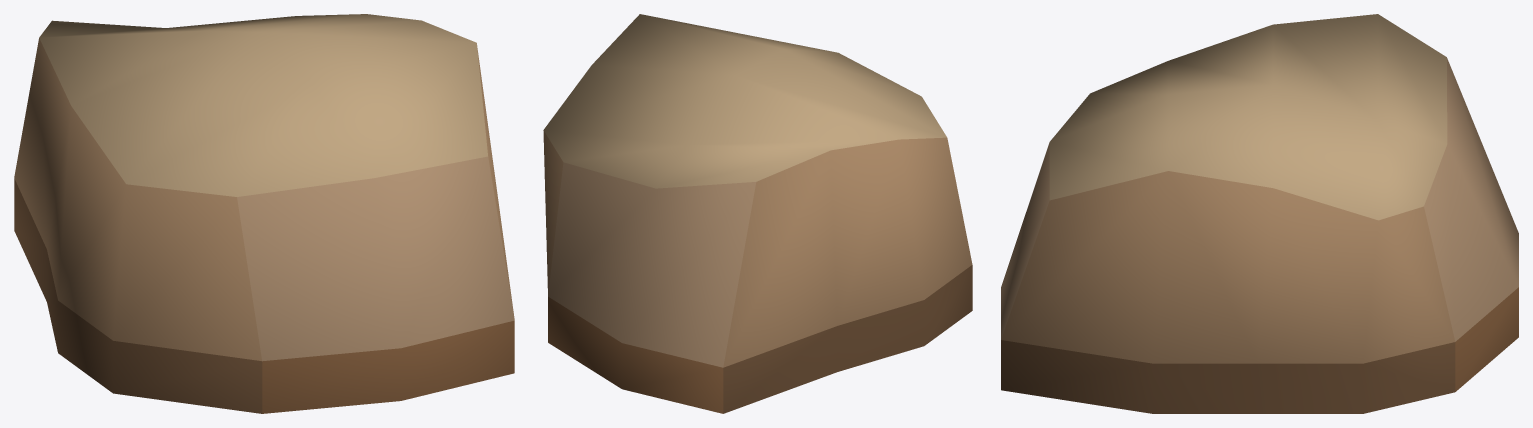
The model's file is consumables-bakedgoods-breadcrumb_v2.glb.
3 views of the same model, side by side, from view 1: azimuth 30°, elevation 25°; view 2: azimuth 150°, elevation 25°; view 3: azimuth 270°, elevation 25° (orthographic). The views are drawn at different scales.
Visible parts, largest first — view 1: BreadCrumb_v2; view 2: BreadCrumb_v2; view 3: BreadCrumb_v2.
Part boxes in pixels (box(x1,y1,x2,y2)): BreadCrumb_v2: box(14, 14, 514, 413); BreadCrumb_v2: box(543, 14, 972, 413); BreadCrumb_v2: box(1001, 14, 1518, 413).
Bounding box in the file's own units: 0.00528 × 0.00358 × 0.00666.
